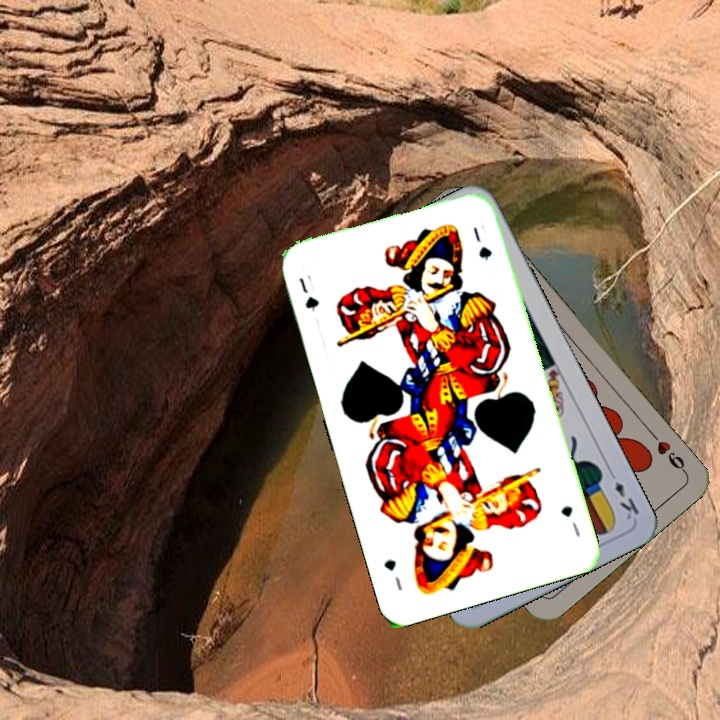EK: (604, 465, 642, 523)
GU: (294, 270, 322, 314), (556, 502, 583, 539)
H9: (646, 427, 689, 476)
